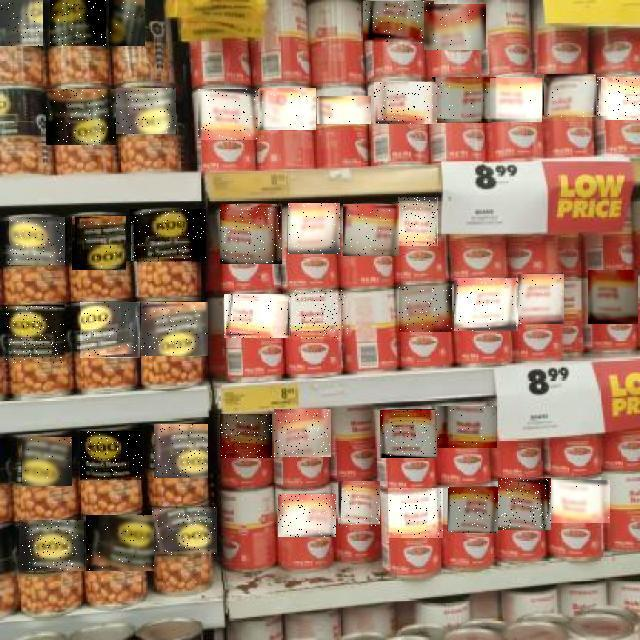Beans: (131, 209, 207, 262), (46, 89, 116, 145), (86, 515, 154, 571), (220, 204, 282, 264), (142, 302, 210, 356), (6, 305, 66, 363), (454, 278, 518, 331), (80, 302, 140, 358), (19, 520, 84, 571), (152, 508, 217, 556), (199, 89, 259, 140), (80, 431, 142, 480), (363, 2, 434, 44), (432, 77, 496, 123), (72, 216, 126, 270), (154, 425, 208, 479), (343, 204, 399, 256), (224, 294, 290, 338), (289, 290, 348, 339), (425, 4, 487, 50), (116, 88, 176, 134), (498, 478, 551, 530), (388, 488, 443, 538), (274, 409, 331, 457), (380, 410, 437, 458), (588, 271, 638, 325), (9, 217, 65, 265), (288, 203, 340, 254), (374, 82, 437, 124), (550, 480, 610, 523), (51, 0, 107, 46), (437, 406, 497, 448), (278, 494, 336, 537), (22, 437, 72, 486), (399, 286, 452, 332), (258, 88, 316, 130), (516, 274, 564, 324), (448, 487, 498, 533), (490, 78, 542, 122), (220, 414, 272, 458), (544, 74, 596, 117), (0, 0, 43, 46), (399, 197, 439, 246), (338, 482, 380, 528), (597, 77, 640, 120), (109, 0, 145, 46), (317, 96, 371, 124)
